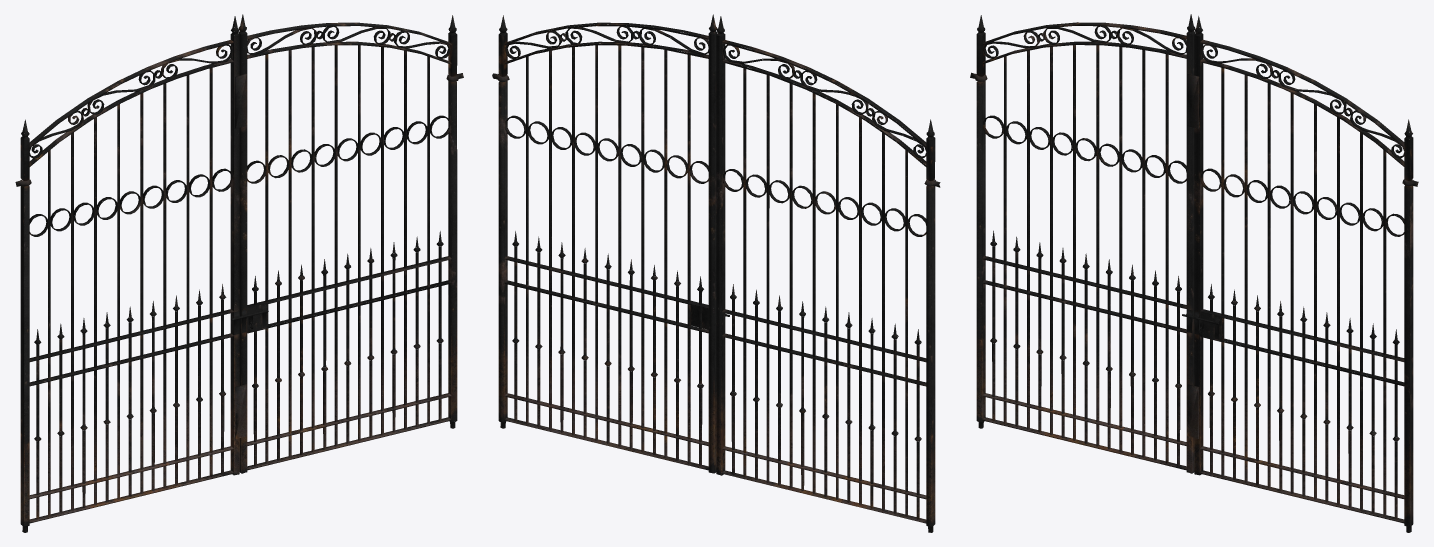
The model's file is prop_iron_gate.glb.
The picture shows the model from 3 angles, left to right: view 1: azimuth 30°, elevation 25°; view 2: azimuth 150°, elevation 25°; view 3: azimuth 330°, elevation 25°; orthographic projection.
Parts seen in each view (by area): view 1: large_iron_gate_right_door, large_iron_gate_left_door; view 2: large_iron_gate_left_door, large_iron_gate_right_door; view 3: large_iron_gate_right_door, large_iron_gate_left_door.
Part boxes in pixels (bbox=[...]): large_iron_gate_right_door: bbox=[235, 14, 457, 473]; large_iron_gate_left_door: bbox=[20, 16, 240, 532]; large_iron_gate_left_door: bbox=[716, 16, 935, 532]; large_iron_gate_right_door: bbox=[498, 14, 717, 473]; large_iron_gate_right_door: bbox=[1187, 16, 1413, 532]; large_iron_gate_left_door: bbox=[976, 14, 1195, 473].
Bounding box in the file's own units: 2.95 × 2.93 × 0.0984.
Materials: 1 (1 with a texture image).
